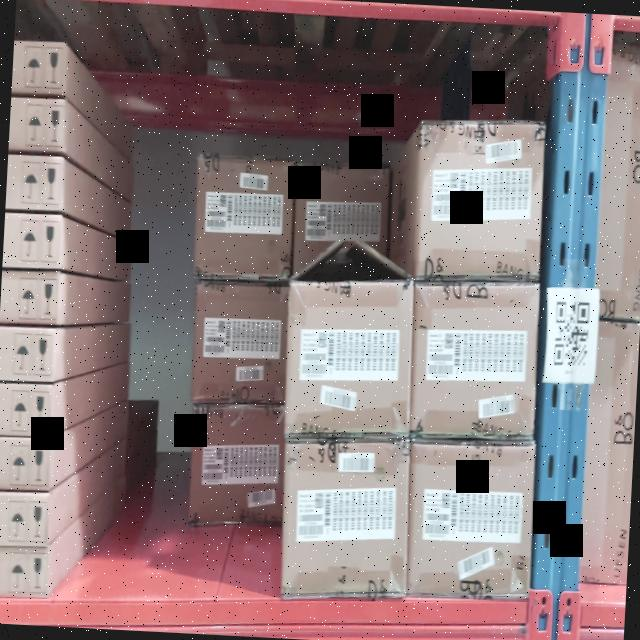box: (414, 118, 546, 284), (278, 436, 412, 598), (410, 282, 542, 442), (406, 444, 538, 604), (284, 282, 418, 436), (192, 154, 296, 282), (292, 160, 395, 279), (190, 404, 286, 527), (192, 280, 290, 400)
